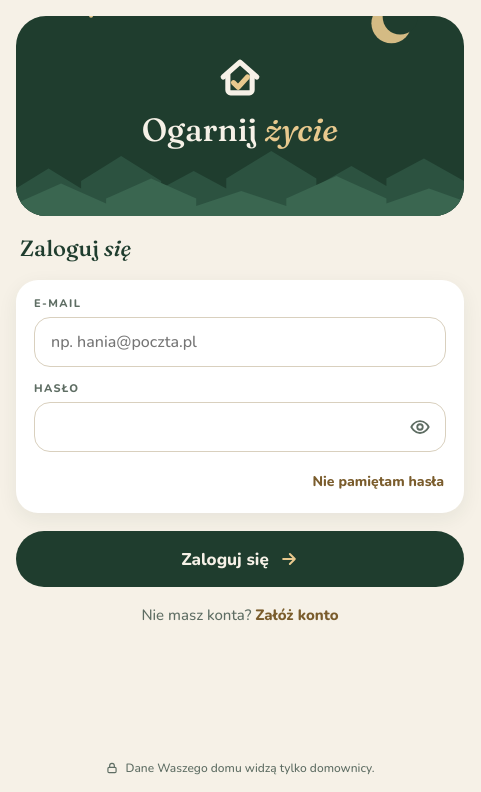
Test case: Zaloguj się: złe hasło → komunikat po polsku przy haśle
Type "hania@poczta.pl" into the field labelled "E‑MAIL".
click(240, 342); type("hania@poczta.pl")  # box left=34, top=317, right=446, bottom=367
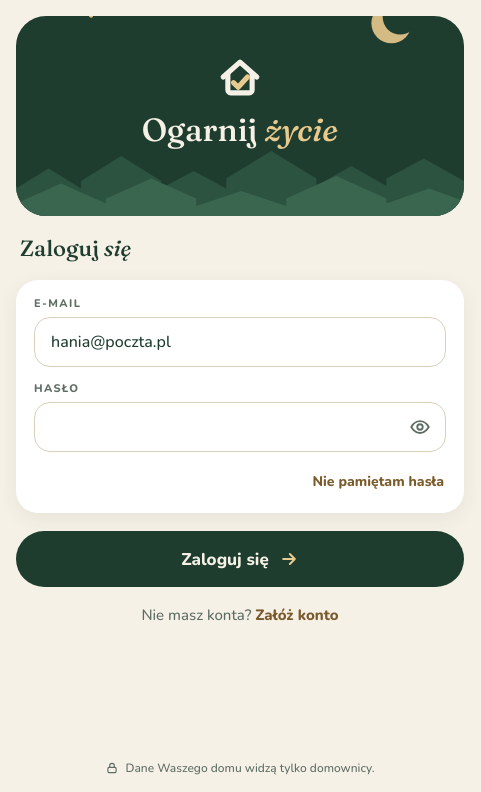
Type "zle-haslo" into the password field labelled "HASŁO".
click(240, 427); type("zle-haslo")  # box left=34, top=402, right=446, bottom=452
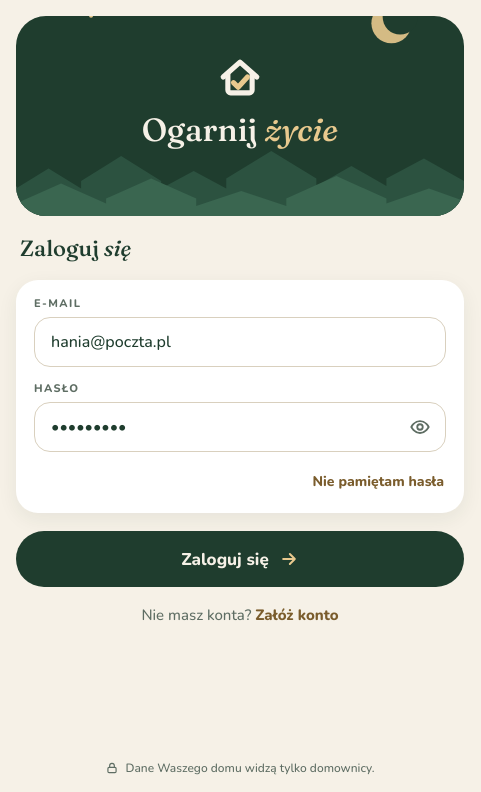
Click the button "Zaloguj się".
click(240, 559)  # box left=16, top=531, right=464, bottom=587
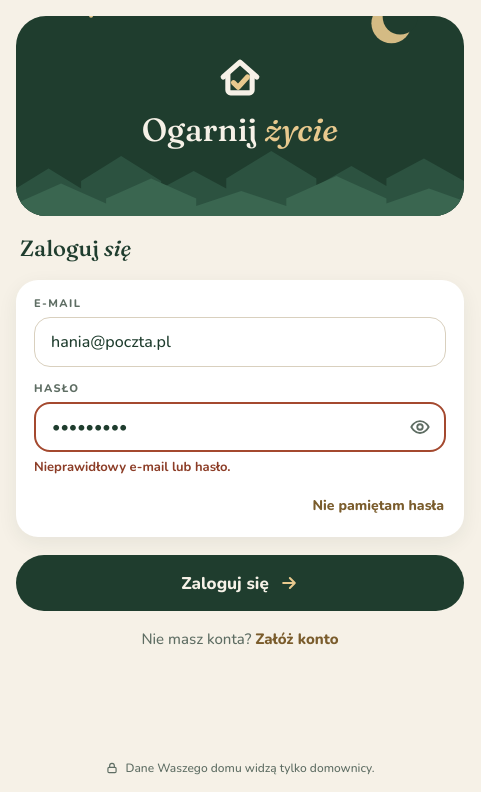
expect the text "Nieprawidłowy e‑mail lub hasło." is shown: met, box left=34, top=458, right=231, bottom=476
